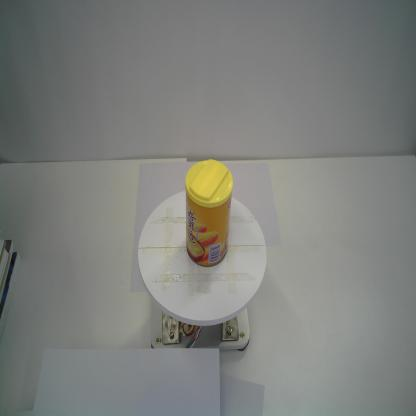Canned Food: (184, 157, 235, 270)
